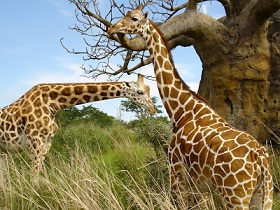Jirafa: (101, 2, 170, 71), (94, 75, 161, 142)
